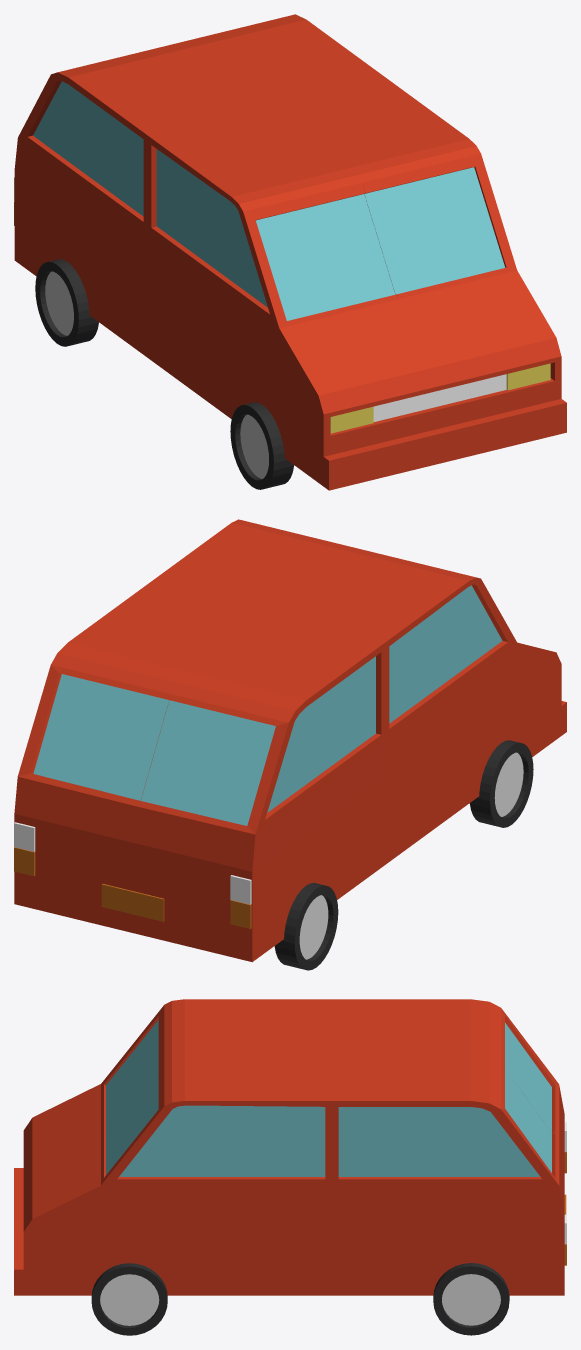
Rendered from car_red.glb.
The picture shows the model from 3 angles, top to bottom: view 1: azimuth 30°, elevation 25°; view 2: azimuth 150°, elevation 25°; view 3: azimuth 270°, elevation 25°; orthographic projection. The views are drawn at different scales.
Visible parts, largest first — view 1: Car_red; view 2: Car_red; view 3: Car_red.
Part boxes in pixels (x1,y1,x2,y2): Car_red: [14, 14, 566, 490]; Car_red: [14, 519, 566, 970]; Car_red: [14, 999, 566, 1335].
Bounding box in the file's own units: 2.31 × 2.27 × 4.92.
